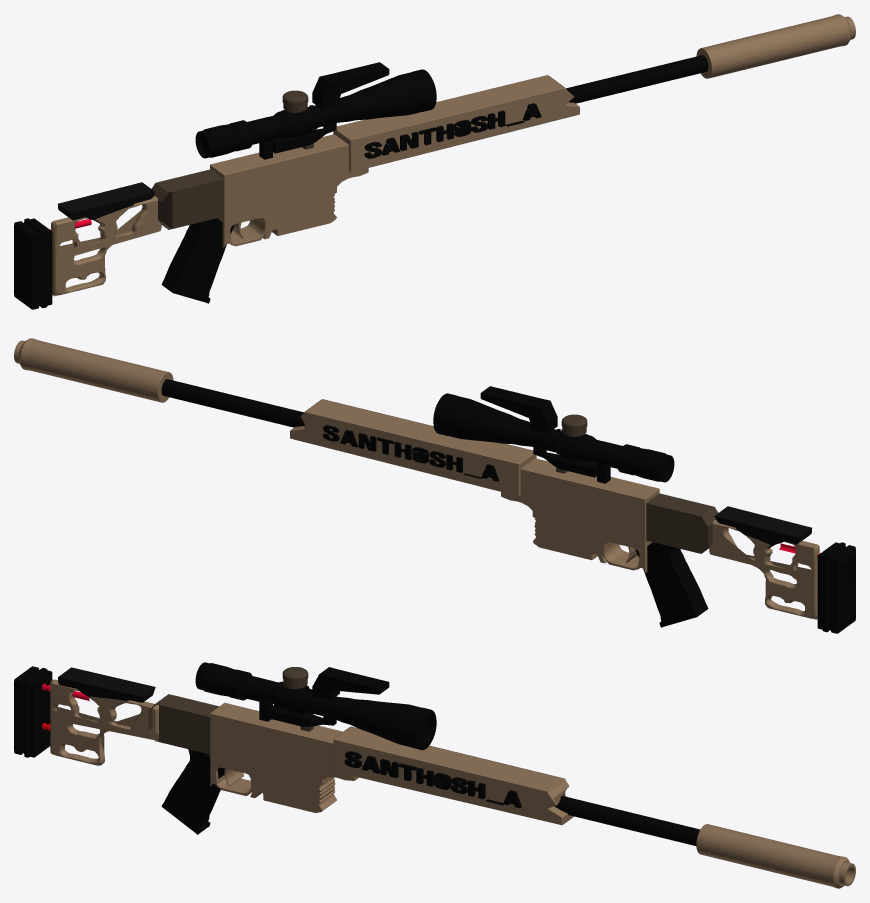
The model's file is sniper.glb.
3 views of the same model, one above another, from view 1: azimuth 30°, elevation 25°; view 2: azimuth 150°, elevation 25°; view 3: azimuth 330°, elevation 25° (orthographic).
Visible parts, largest first — view 1: Plane.002, Plane.001, Cylinder.002, Cylinder.003, Cylinder.001, Plane, Cube.008, Cube.007, Cylinder, Text, Cube, Cube.005; view 2: Plane.002, Plane.001, Cylinder.002, Cylinder.003, Cylinder.001, Plane, Cube.008, Cube.007, Cylinder, Cube, Text.001, Cube.005; view 3: Plane.002, Plane.001, Cylinder.002, Cylinder.001, Cylinder.003, Plane, Cube.008, Cube.007, Cylinder, Text, Cube, Cube.005 (+1 smaller).
Part boxes in pixels (left/top/right/bottom): Plane.002: left=210, top=134, right=368, bottom=248; Plane.001: left=333, top=75, right=579, bottom=172; Cylinder.002: left=269, top=62, right=436, bottom=137; Cylinder.003: left=14, top=117, right=275, bottom=309; Cylinder.001: left=696, top=14, right=855, bottom=78; Plane: left=51, top=196, right=161, bottom=296; Cube.008: left=161, top=218, right=234, bottom=303; Cube.007: left=151, top=169, right=223, bottom=229; Cylinder: left=566, top=55, right=708, bottom=103; Text: left=364, top=103, right=541, bottom=158; Cube: left=58, top=182, right=155, bottom=224; Cube.005: left=273, top=123, right=336, bottom=153; Plane.002: left=501, top=458, right=659, bottom=572; Plane.001: left=290, top=399, right=536, bottom=496; Cylinder.002: left=433, top=386, right=600, bottom=461; Cylinder.003: left=594, top=441, right=855, bottom=633; Cylinder.001: left=14, top=338, right=173, bottom=402; Plane: left=709, top=519, right=819, bottom=619; Cube.008: left=635, top=542, right=708, bottom=627; Cube.007: left=646, top=493, right=718, bottom=553; Cylinder: left=161, top=379, right=304, bottom=427; Cube: left=714, top=506, right=811, bottom=550; Text.001: left=323, top=425, right=499, bottom=481; Cube.005: left=533, top=447, right=596, bottom=477; Plane.002: left=210, top=703, right=358, bottom=812; Plane.001: left=333, top=726, right=573, bottom=825; Cylinder.002: left=264, top=667, right=436, bottom=750; Cylinder.001: left=696, top=824, right=855, bottom=888; Cylinder.003: left=14, top=662, right=271, bottom=757; Plane: left=50, top=679, right=158, bottom=765; Cube.008: left=161, top=749, right=224, bottom=834; Cube.007: left=148, top=694, right=218, bottom=754; Cylinder: left=554, top=796, right=700, bottom=845; Text: left=344, top=751, right=521, bottom=808; Cube: left=58, top=667, right=155, bottom=702; Cube.005: left=267, top=705, right=336, bottom=726.
Size of the model in its own units: 11.44 by 2.51 by 0.5111.
